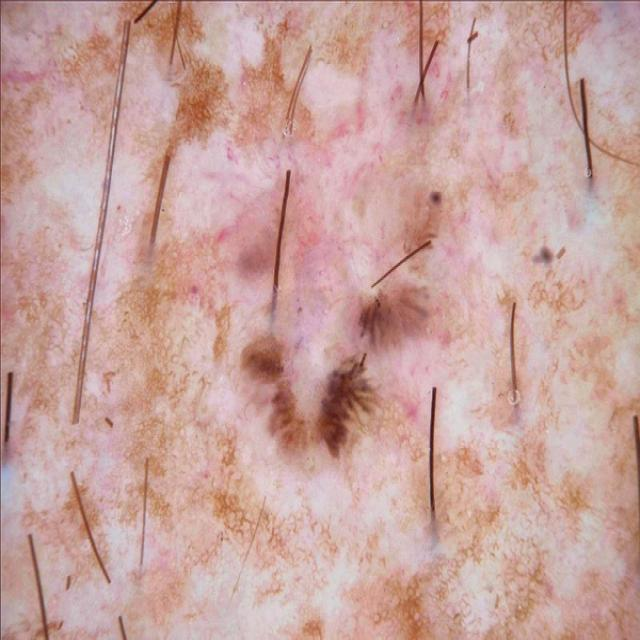Basal-Cell-Carcinoma-BCC-: (25, 43, 607, 571)
